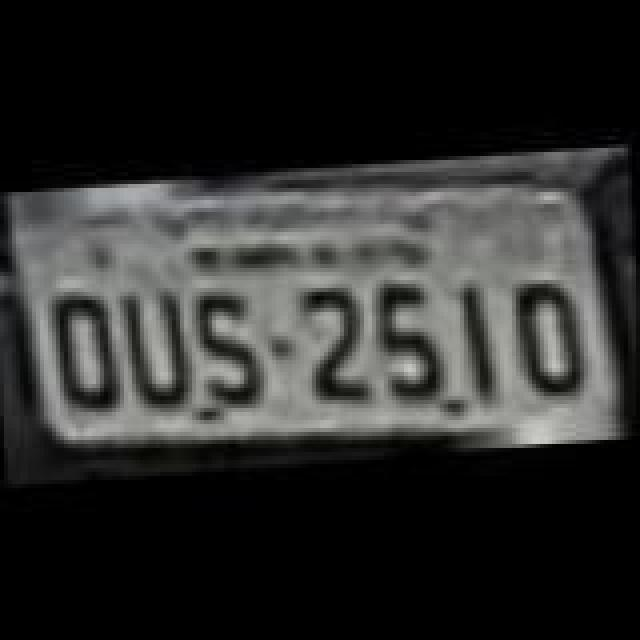1: (454, 278, 502, 406)
2: (298, 278, 370, 406)
5: (378, 278, 450, 406)
O: (510, 278, 590, 402), (46, 292, 126, 412)
S: (192, 286, 268, 406)
U: (120, 288, 204, 416)
